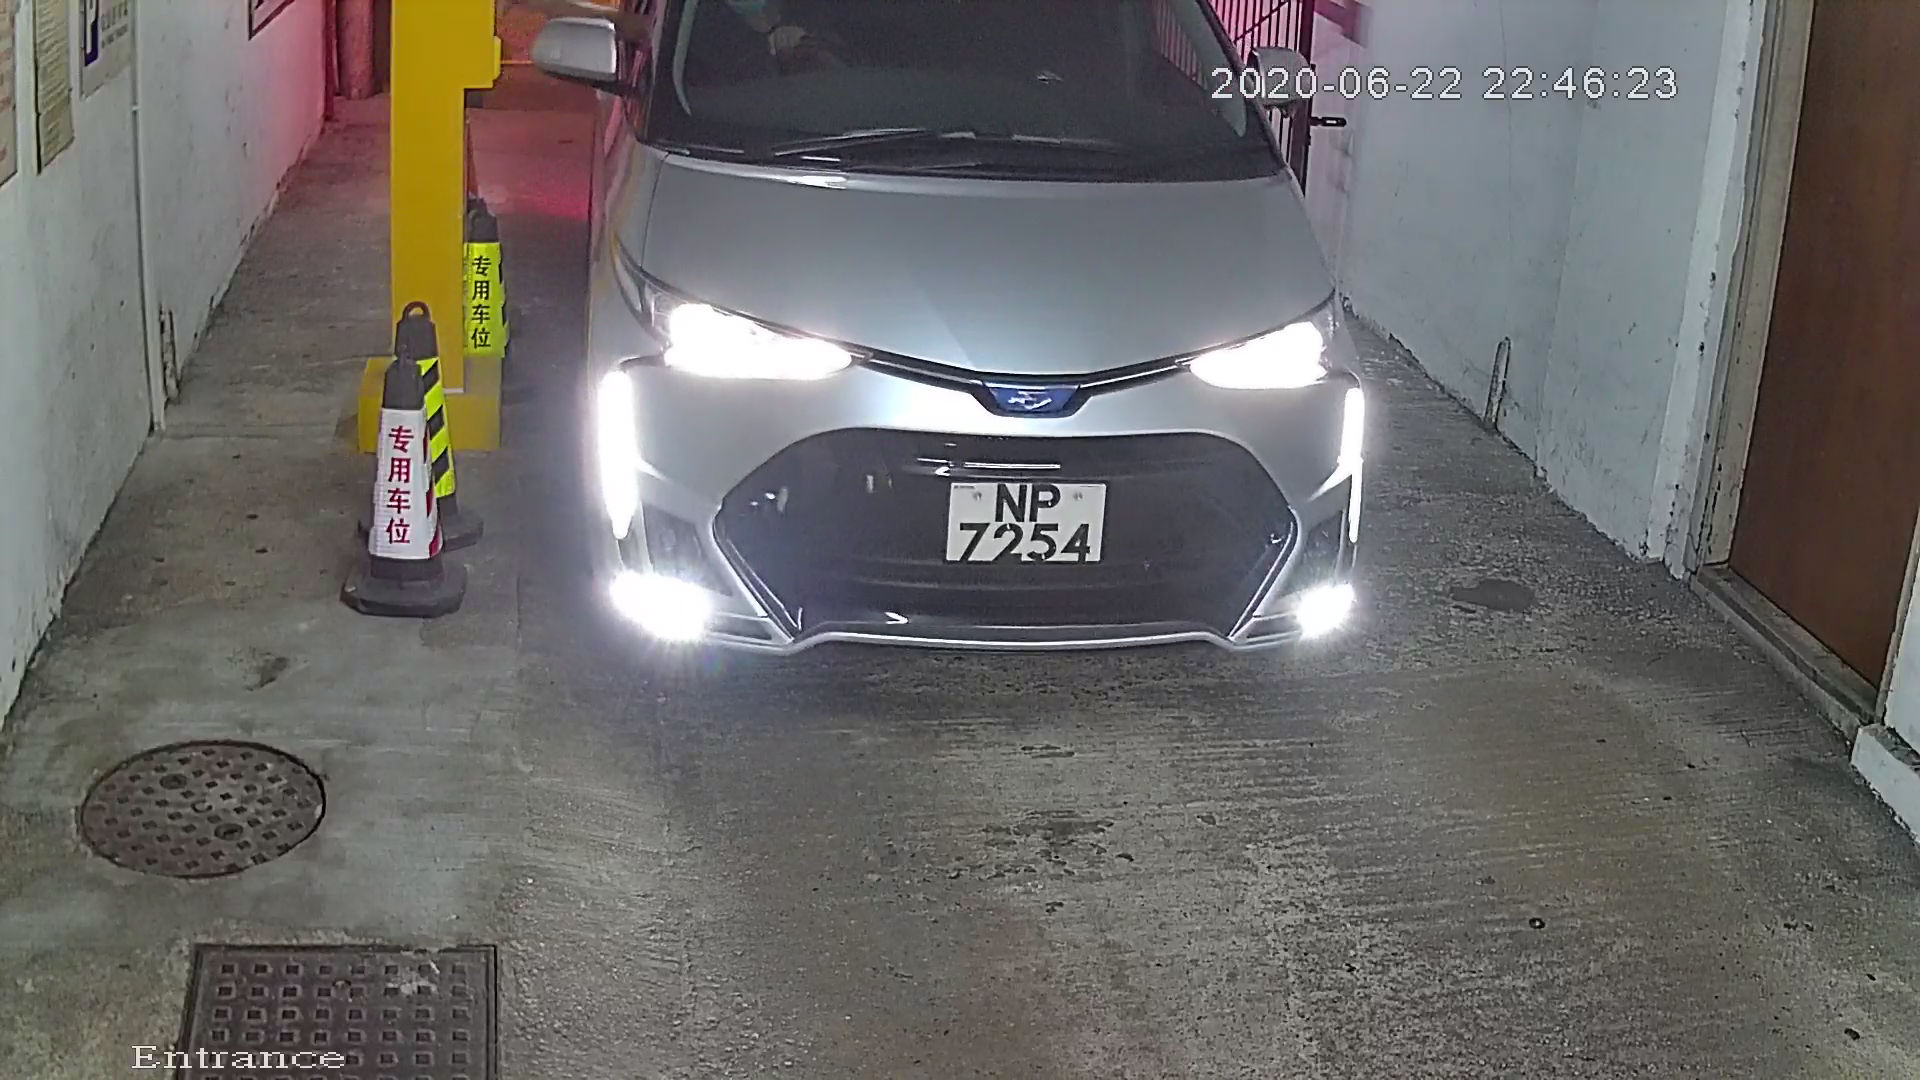privatecar: (545, 3, 1458, 737)
